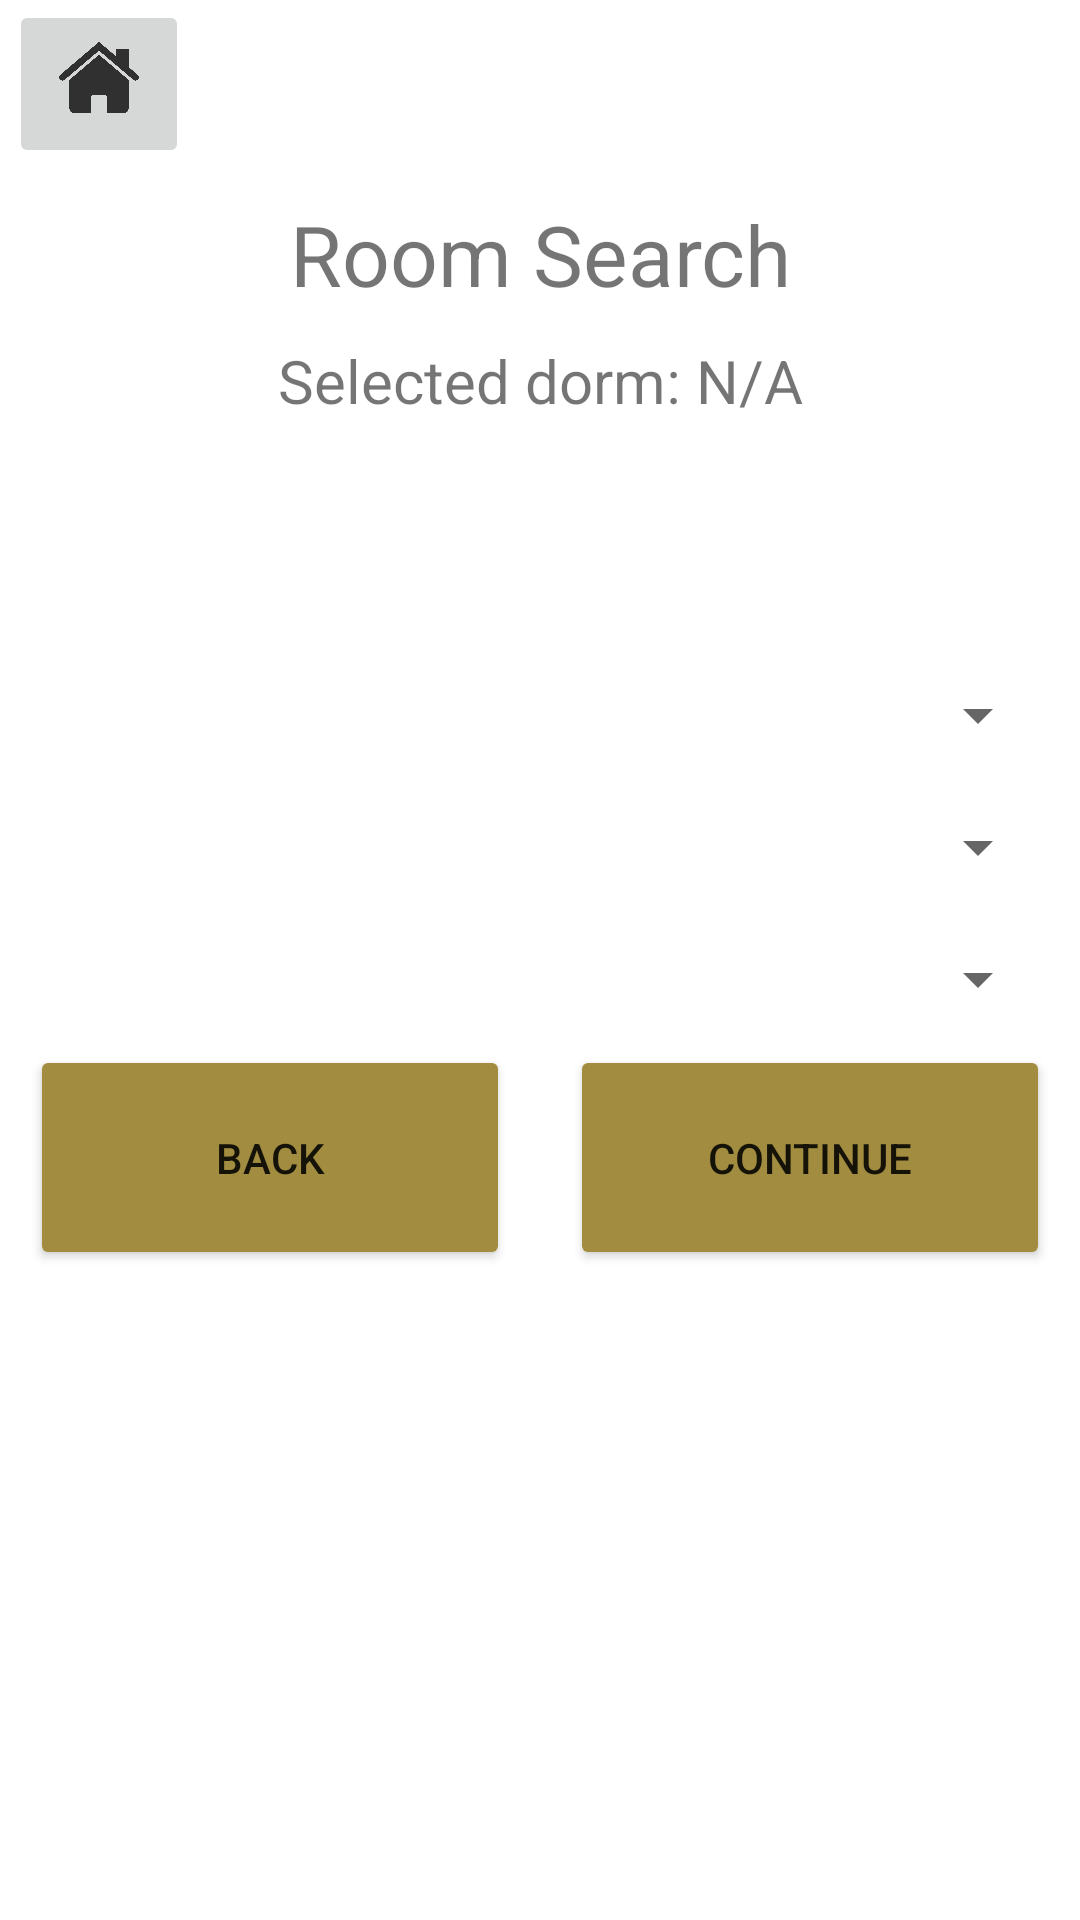

Icon bounding boxes for this 1080×1920 phone screenshot, format (x1, y1, x2, y2):
home: (21, 18, 177, 150)
